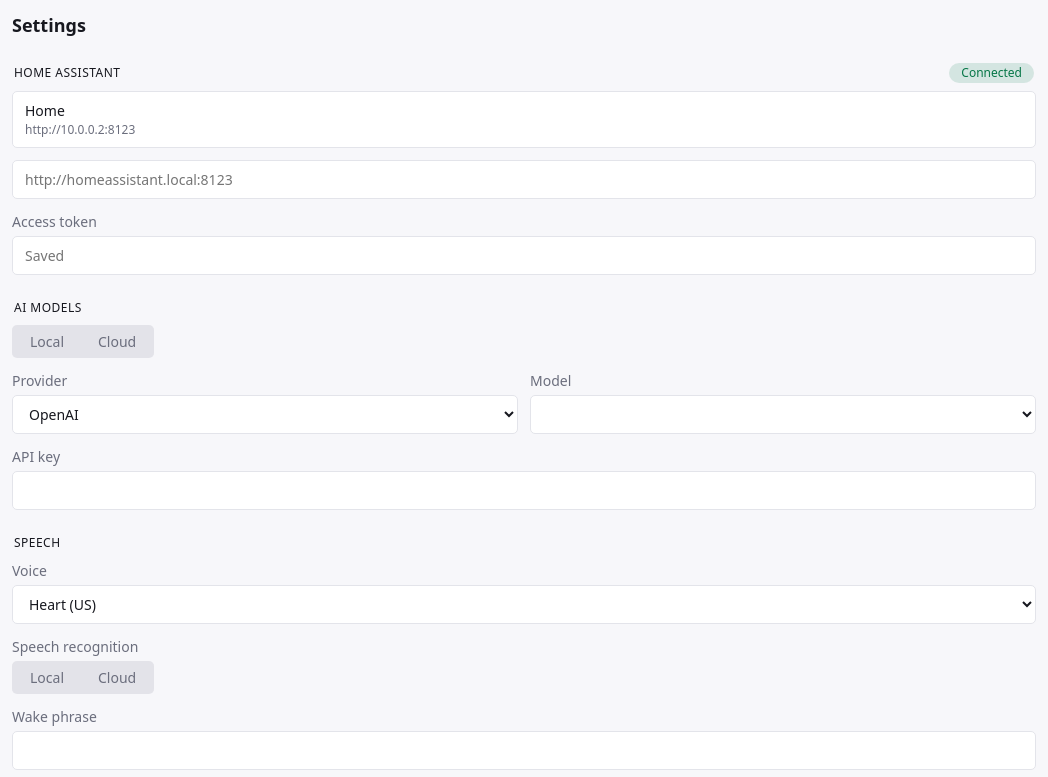
Test case: SettingsView › suggests discovered instances when no address is set
What coordinates should you click on to do the following:
click the button "Home http://10.0.0.2:8123"
I would click on:
 (45, 110)
Its box is [12,91,1036,148].
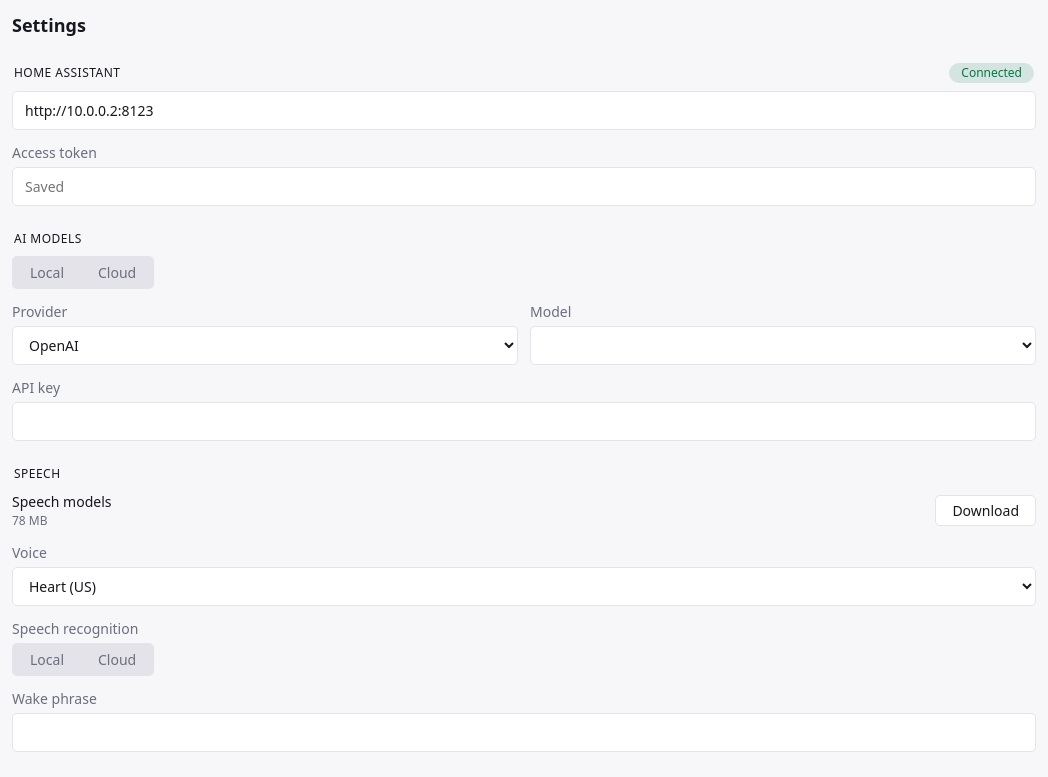
Result: the field showing "http://10.0.0.2:8123" is shown at [12,91,1036,130]
